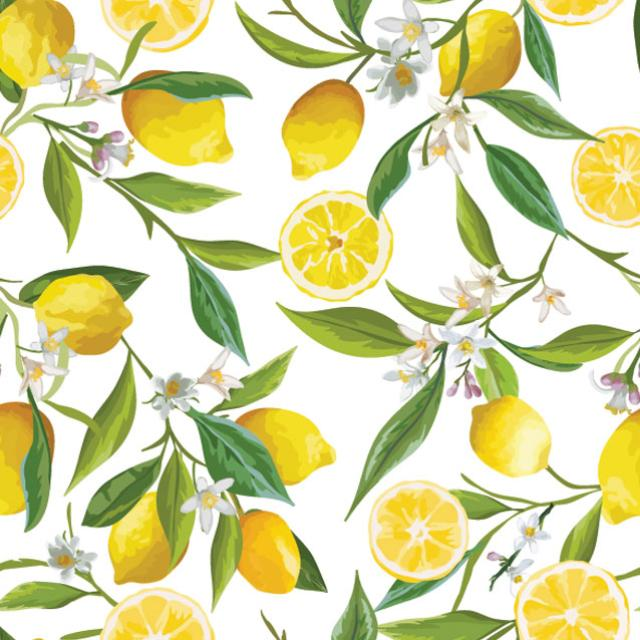lemon: (116, 73, 240, 166), (269, 76, 367, 180), (30, 275, 134, 357)
